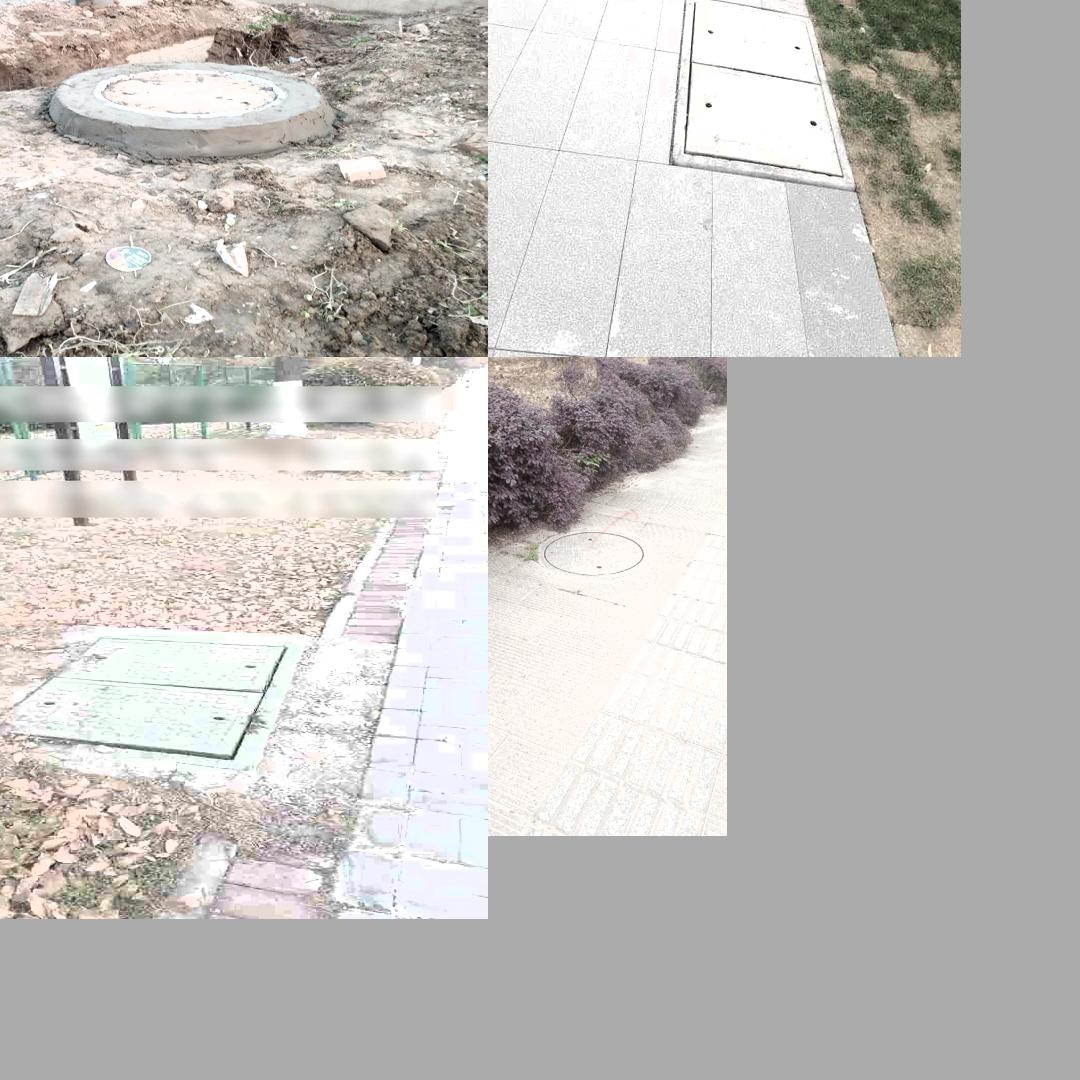good: (0, 634, 305, 761), (670, 10, 859, 193), (94, 67, 285, 116), (538, 527, 653, 577)
